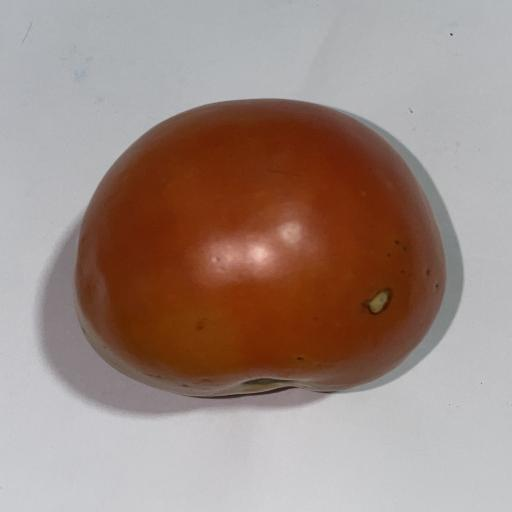ripe: (74, 99, 446, 396)
